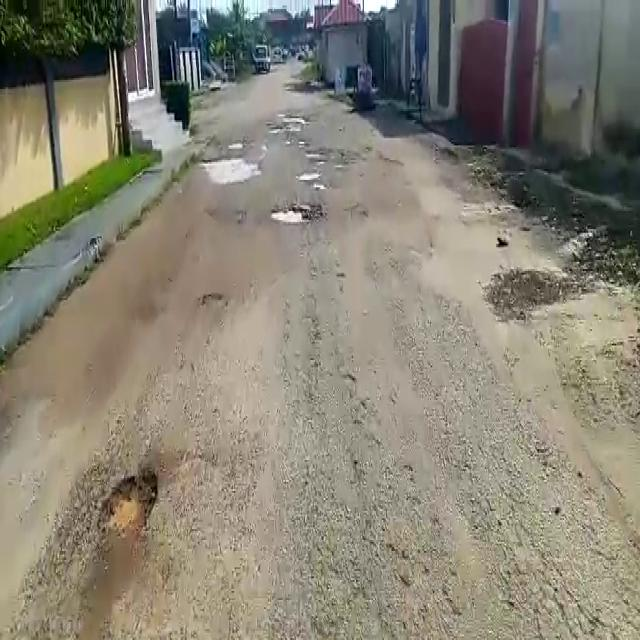Pothole: (102, 468, 156, 536), (200, 152, 256, 181), (267, 201, 311, 224), (305, 145, 352, 161)
